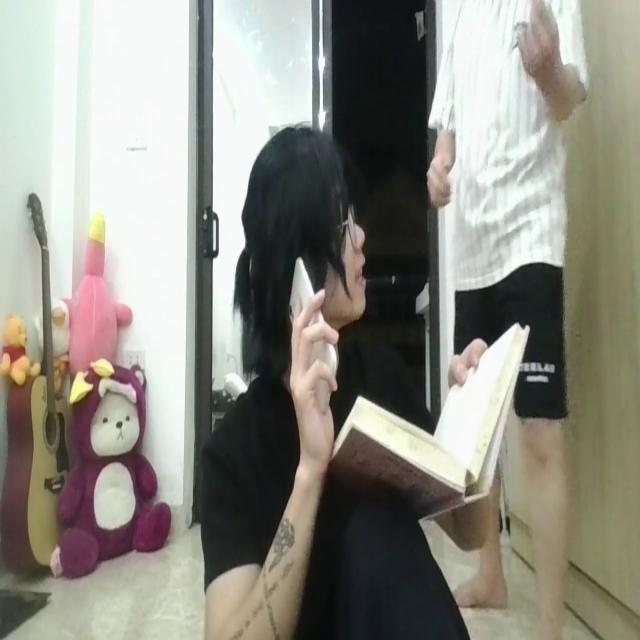book: (337, 318, 531, 517)
extra_person: (424, 1, 594, 640)
phone: (286, 249, 340, 421)
student: (195, 126, 499, 640)
